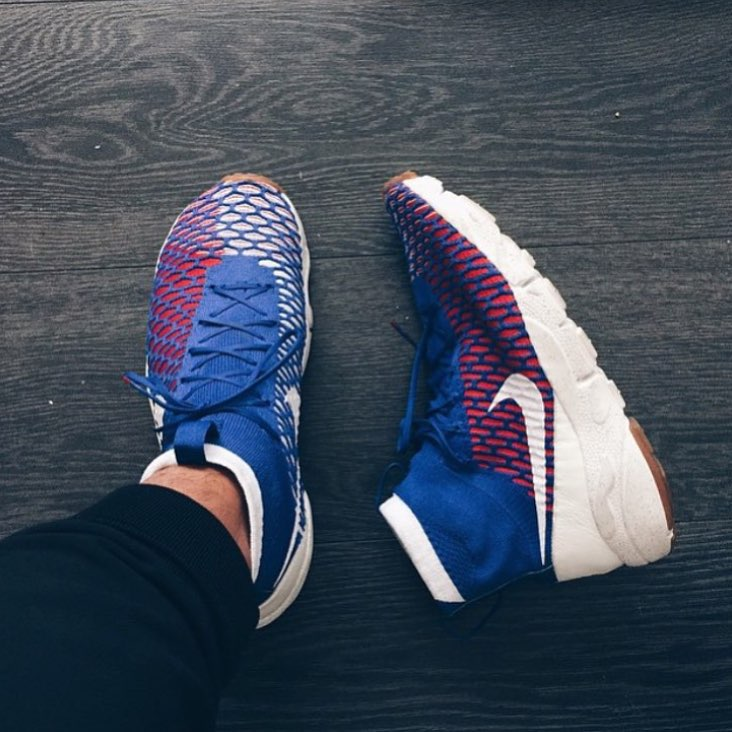sneaker: (122, 151, 340, 645)
